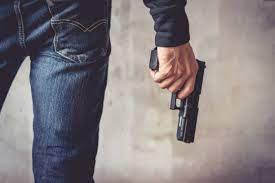gun: (148, 47, 207, 145)
